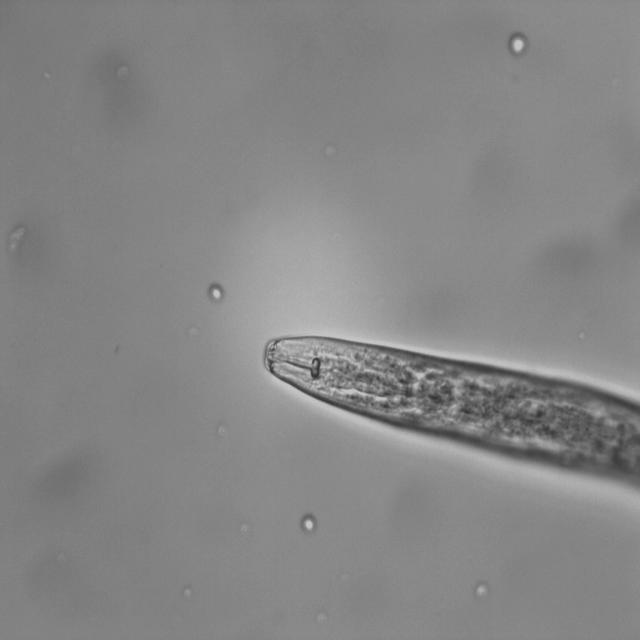Pratylenchus: (254, 322, 617, 467)
